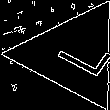L_NW: (38, 28, 107, 81)
